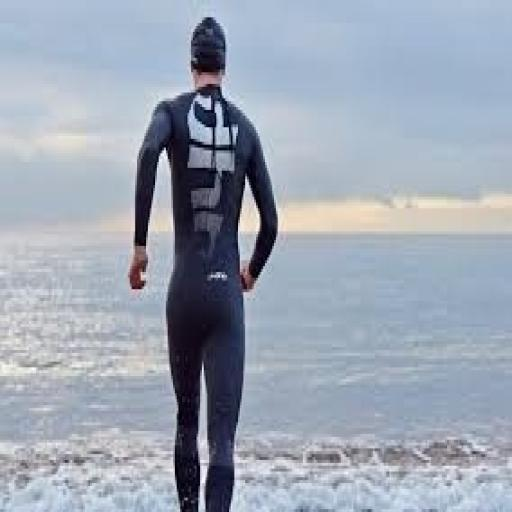running: (126, 15, 281, 509)
